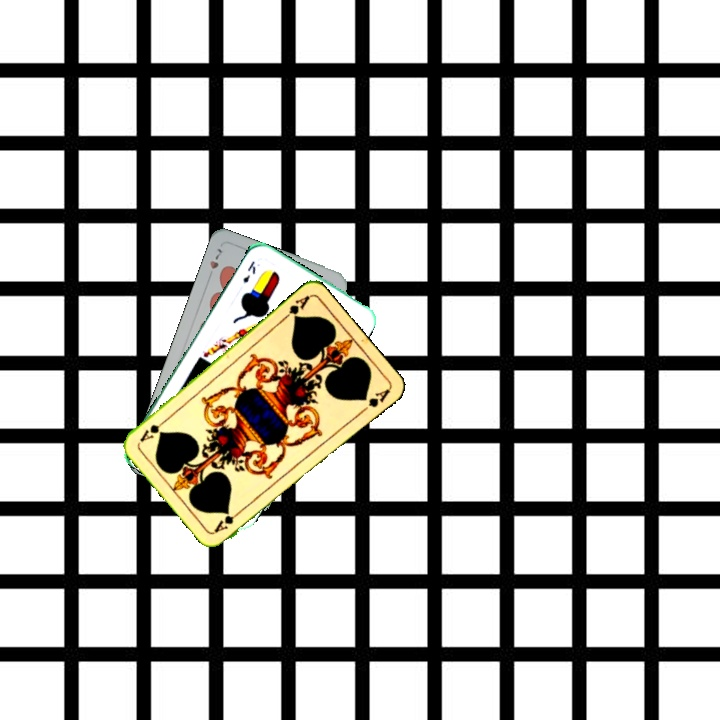EK: (239, 257, 258, 286)
GA: (278, 291, 312, 323), (210, 505, 245, 535)
H7: (204, 244, 225, 282)
